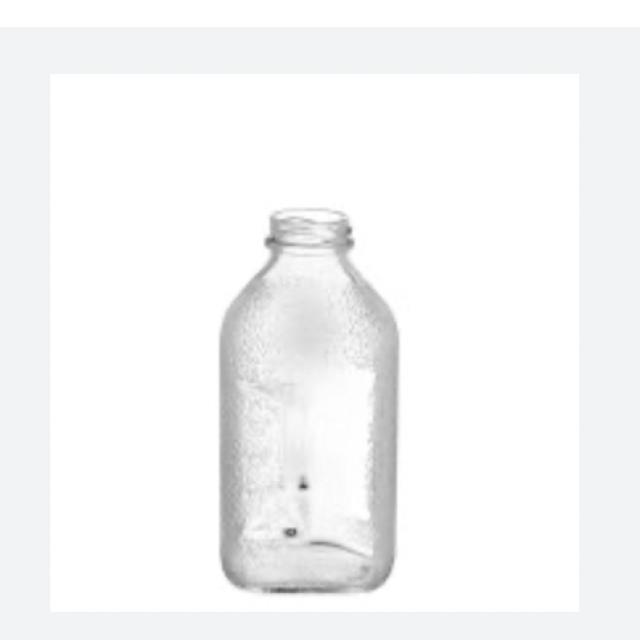recyclable: (200, 186, 420, 607)
